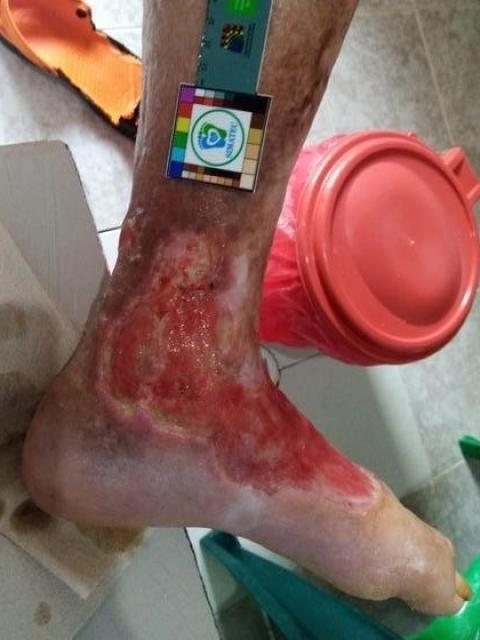wound: (104, 232, 379, 510), (116, 217, 140, 259)
